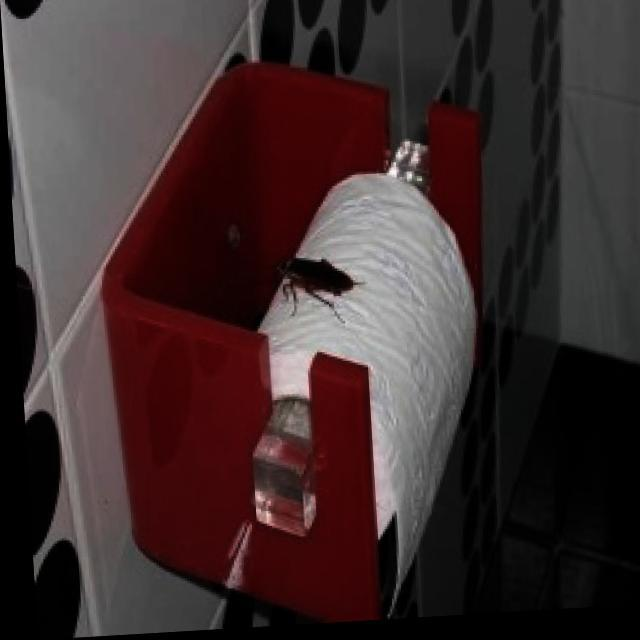cockroach: (271, 250, 367, 327)
